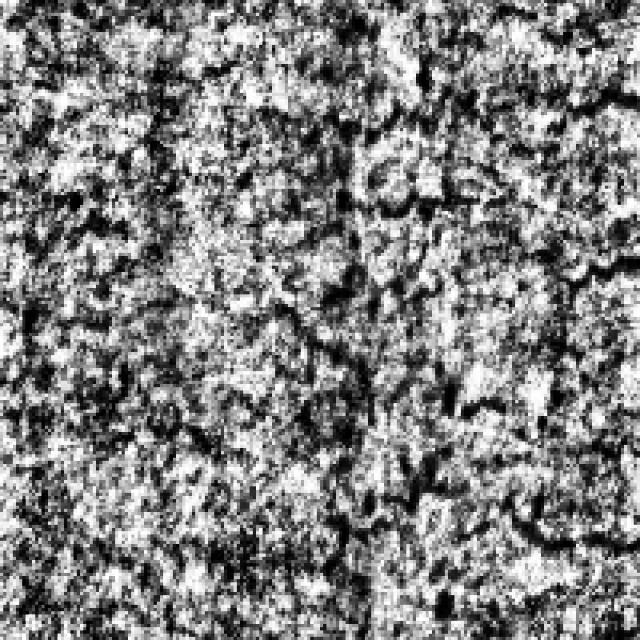Pitted_Surface: (301, 330, 637, 580), (292, 51, 630, 298)
